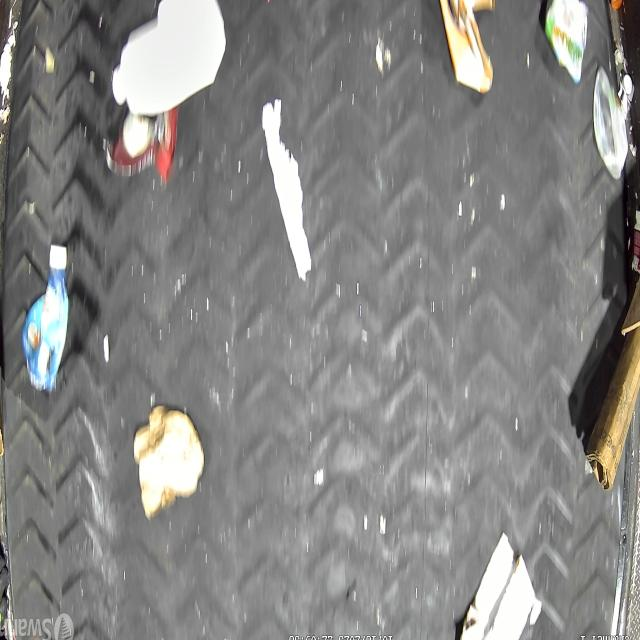can: (544, 0, 588, 86)
milk_jug: (112, 0, 226, 119)
